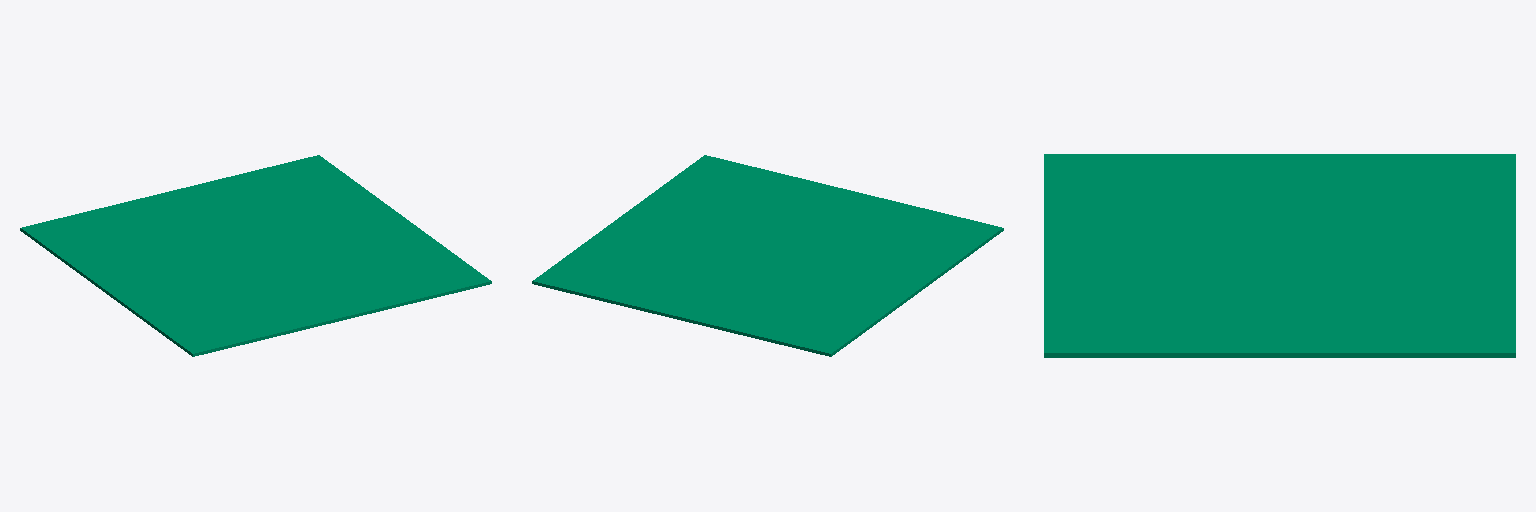
robot.urdf — ground_skeleton:
<?xml version="1.0"?>
<robot name="ground_skeleton">
    <link name="world" />
    <link name="world_frame">
        <inertial>
            <mass value="0.000000001" />
            <origin xyz="0 0 0" rpy="0 0 0" />
            <inertia ixx="0.000000001" ixy="0.000000001" ixz="0.000000001" iyy="1.0" iyz="0" izz="1.0" />
        </inertial>
    </link>
    <link name="ground">
         <collision>
            <origin xyz= "0 0 0" rpy="0. 0 0" />
            <geometry>
                <box size="10 10 0.1" />
            </geometry>
        </collision>
         <visual name="visual">
            <origin xyz = "0 0 0" rpy="0. 0 0" />
            <geometry>
                <box size="10 10 0.1" />
            </geometry>
        </visual>
        <inertial>
            <mass value="1.0" />
            <origin xyz="0 0 0" rpy="0 0 0" />
            <inertia ixx="1.0" ixy="0" ixz="0" iyy="1.0" iyz="0" izz="1.0" />
        </inertial>
    </link>
    <link name="ground_link">
         <collision>
            <origin xyz= "-0.50 -0.50 0" rpy="0. 0 0" />
            <geometry>
        	<mesh filename="meshes/hexa_column_500_2000.stl"/>
      	    </geometry>
        </collision>
         <visual name="visual">
            <origin xyz = "-0.50 -0.50 0" rpy="0. 0 0" />
            <geometry>
        	<mesh filename="meshes/hexa_column_500_2000.stl"/>
            </geometry>
        </visual>
        <inertial>
            <mass value="1.0" />
            <origin xyz="0 0 0" rpy="0 0 0" />
            <inertia ixx="1.0" ixy="0" ixz="0" iyy="1.0" iyz="0" izz="1.0" />
        </inertial>
    </link>
    <joint name="ground_joint" type="fixed">
        <origin xyz="0.0 0.0 0.0" rpy="0.6154796 -0.5235987 -0.9553166" />
        <parent link="world" />
        <child link="ground_link" />
    </joint>
    <joint name="frame_joint" type="fixed">
        <origin xyz="0 0 0" rpy="0 0 0" />
        <parent link="world" />
        <child link="world_frame" />
    </joint>
    <joint name="ground_flat_joint" type="fixed">
        <origin xyz="0.0 0.0 -2.0" rpy="0 0.0 0.0" />
        <parent link="world" />
        <child link="ground" />
    </joint>
</robot>

--- Facts derived from the render (not from the file) ---
Views: 3 orthographic renders of the robot side by side, from view 1: azimuth 30°, elevation 25°; view 2: azimuth 150°, elevation 25°; view 3: azimuth 270°, elevation 25°.
Robot: ground_skeleton — 4 links, 3 joints (3 fixed); root link world; default pose: all joints at 0.
Visible links, largest first — view 1: ground; view 2: ground; view 3: ground.
Boxes of the visible links, box(x1,y1,x2,y2) form: ground: box(20, 155, 491, 356); ground: box(532, 155, 1003, 356); ground: box(1044, 154, 1515, 357).
Size in the robot's own frame: 10 by 10 by 0.1 metres.
0 mesh visuals loaded from 1 distinct referenced files (none loaded); not drawn: 1 (reference not matched to a file when rendering).